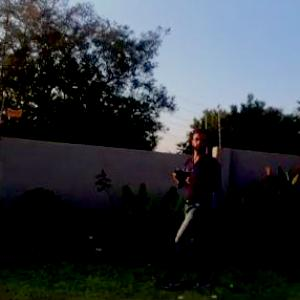follow: (152, 121, 225, 290)
